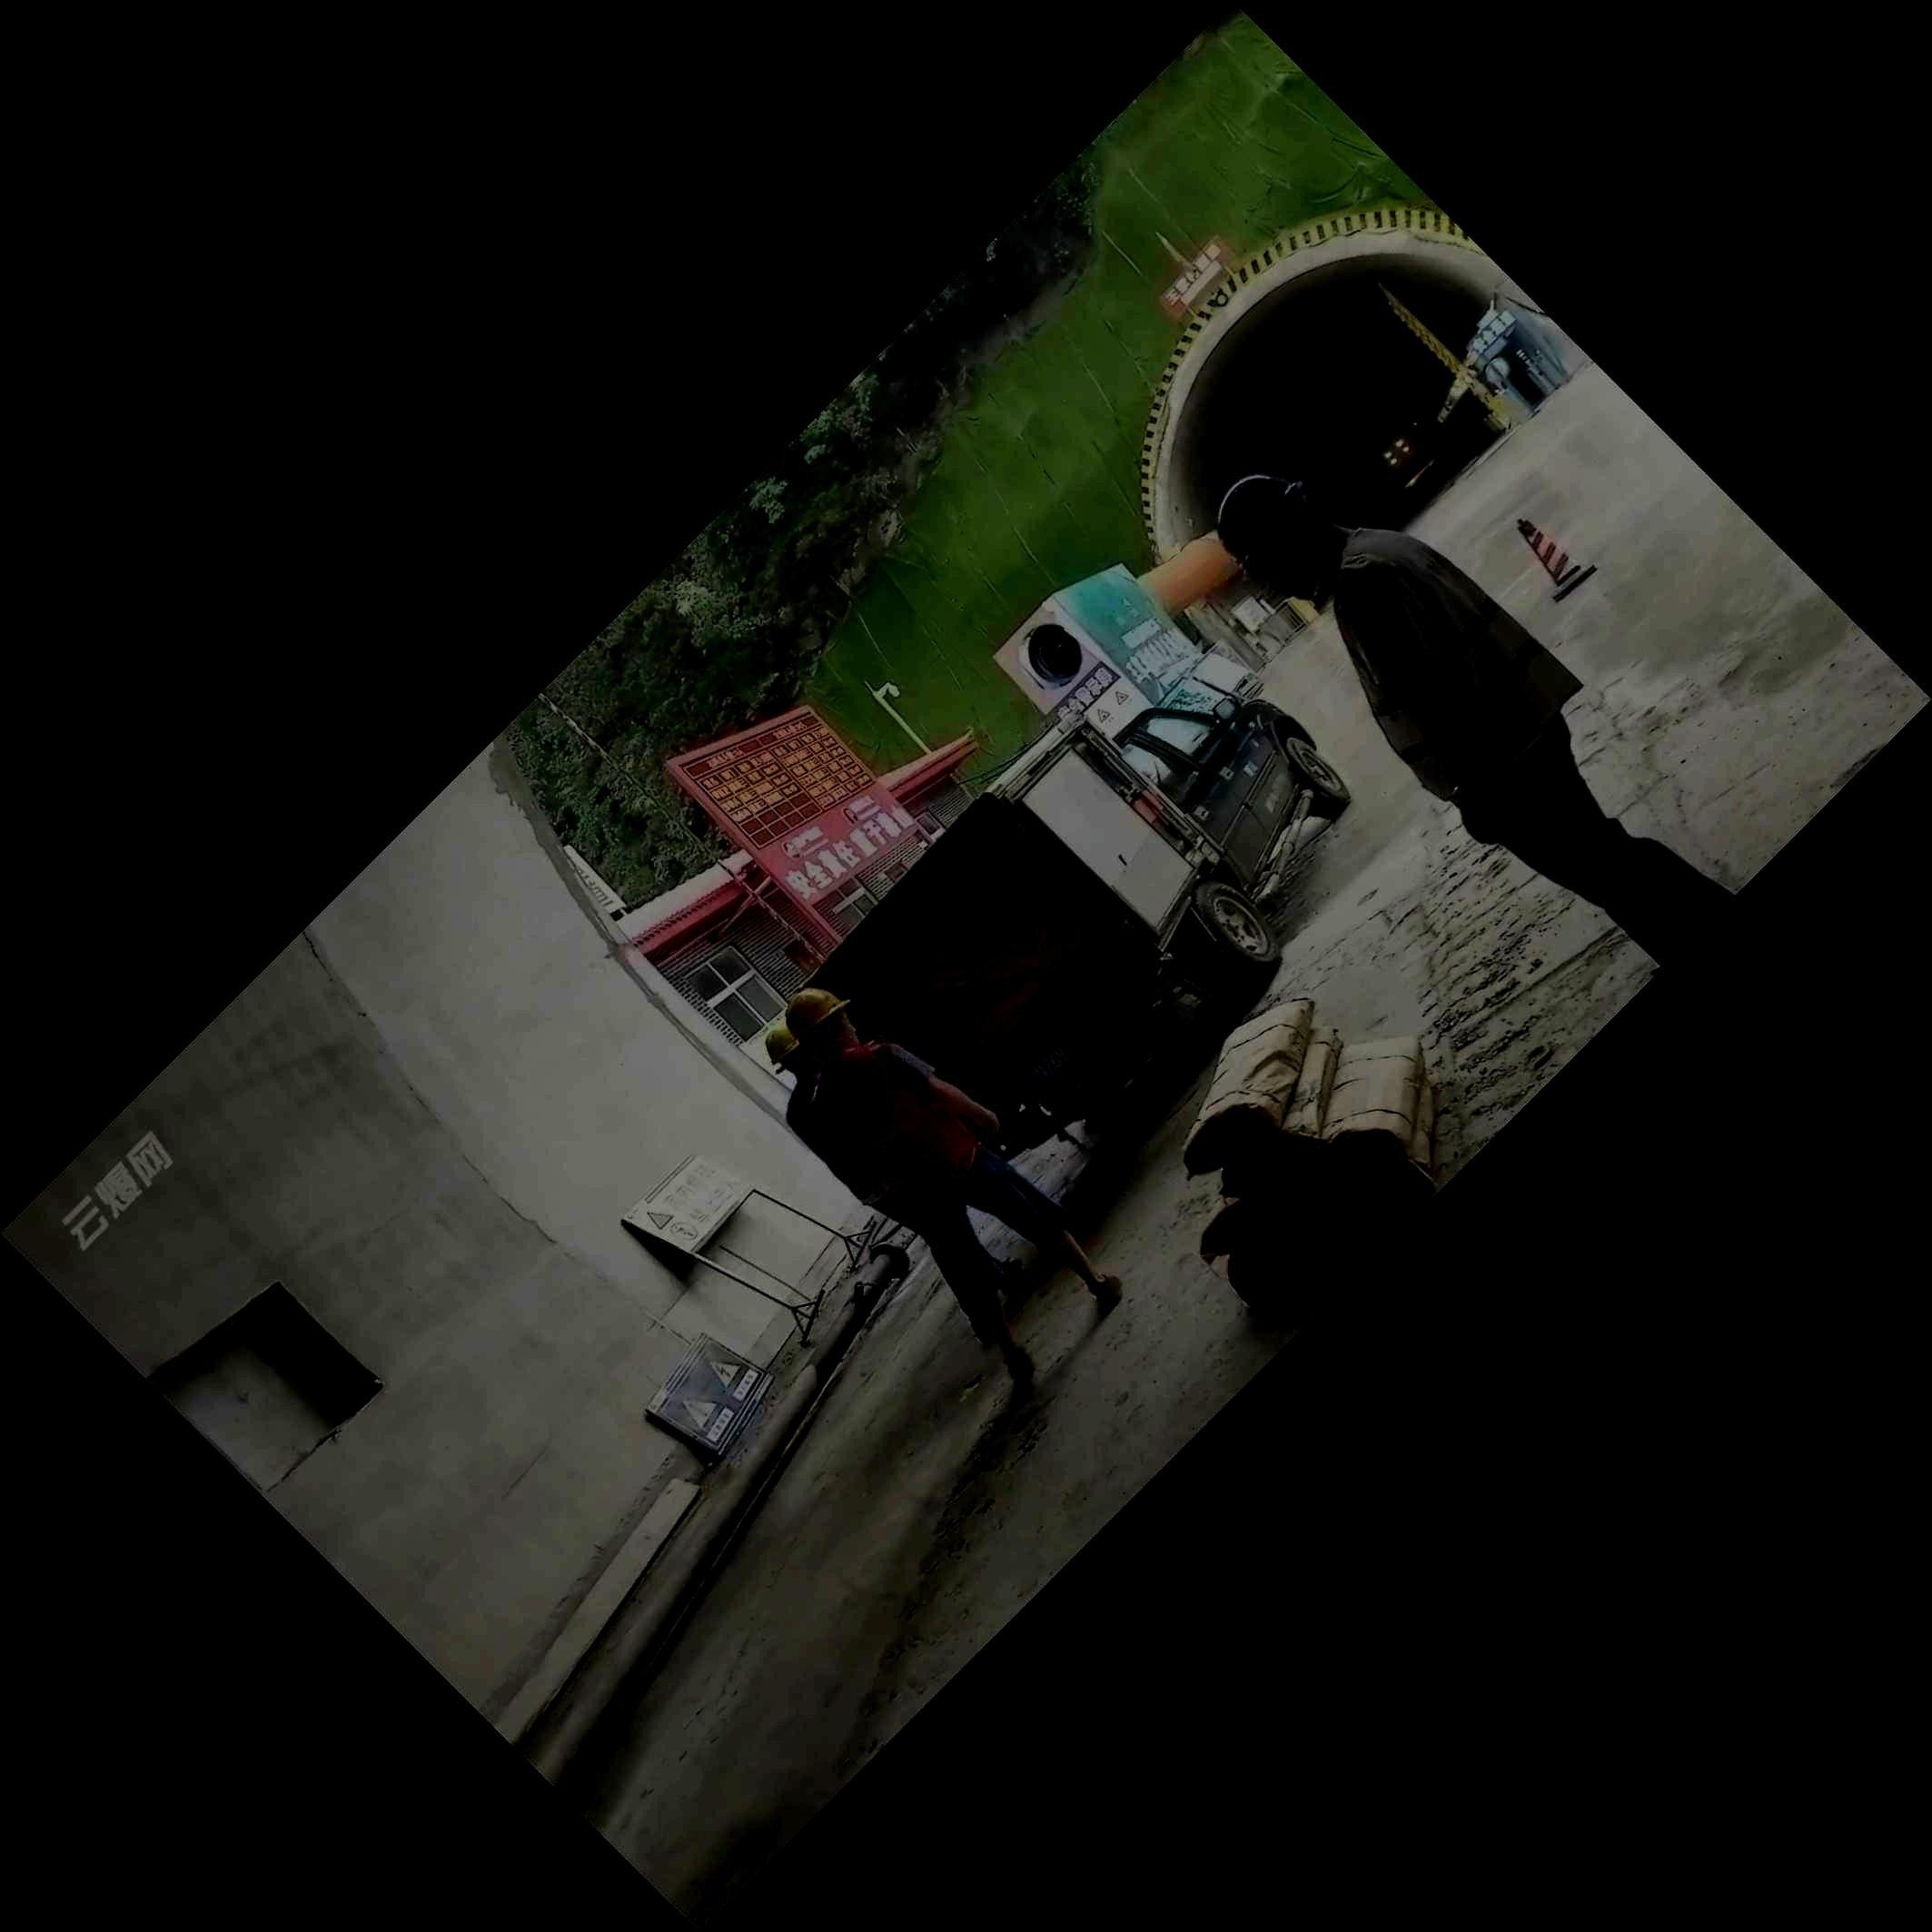helmet: (1217, 474, 1336, 600), (786, 987, 860, 1053), (764, 1021, 805, 1076)
